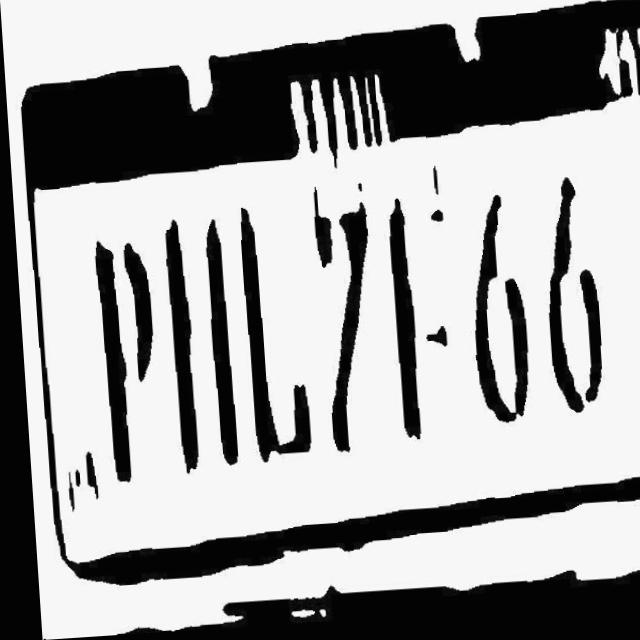6: (529, 180, 603, 424), (456, 199, 529, 433)
7: (298, 199, 382, 461)
f: (379, 195, 460, 450)
h: (153, 213, 240, 474)
l: (230, 203, 307, 467)
p: (78, 233, 163, 491)
